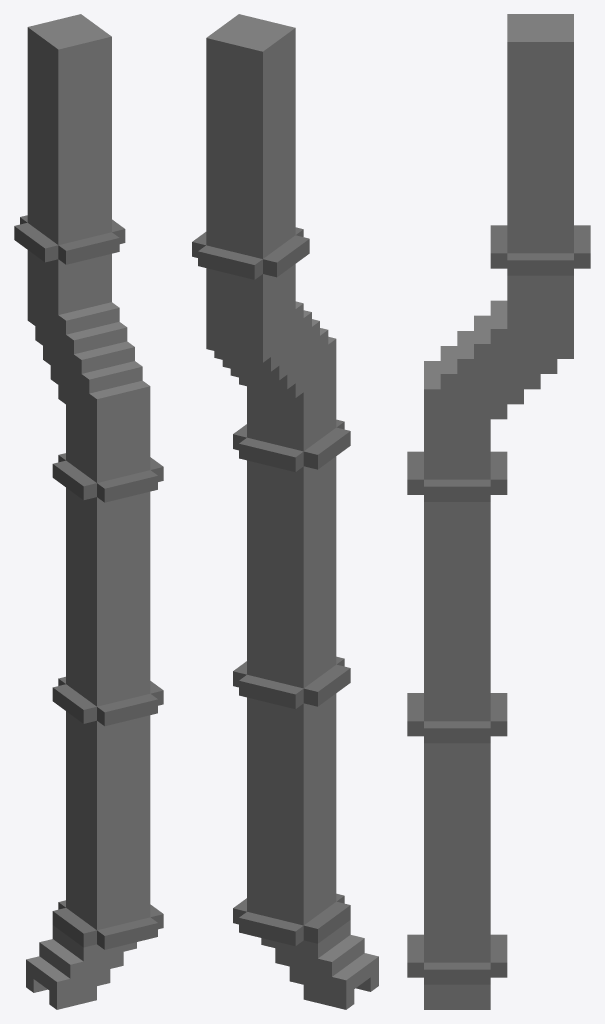
File: pipe.glb
The picture shows the model from 3 angles, left to right: view 1: azimuth 30°, elevation 25°; view 2: azimuth 150°, elevation 25°; view 3: azimuth 270°, elevation 25°; orthographic projection. The views are drawn at different scales.
Parts seen in each view (by area): view 1: ObjObject; view 2: ObjObject; view 3: ObjObject.
Part boxes in pixels (left/top/right/bottom): ObjObject: left=14, top=14, right=163, bottom=1009; ObjObject: left=192, top=14, right=378, bottom=1009; ObjObject: left=407, top=14, right=590, bottom=1009.
Bounding box in the file's own units: 0.8 × 6.6 × 1.1.
Materials: 1 (1 with a texture image).
